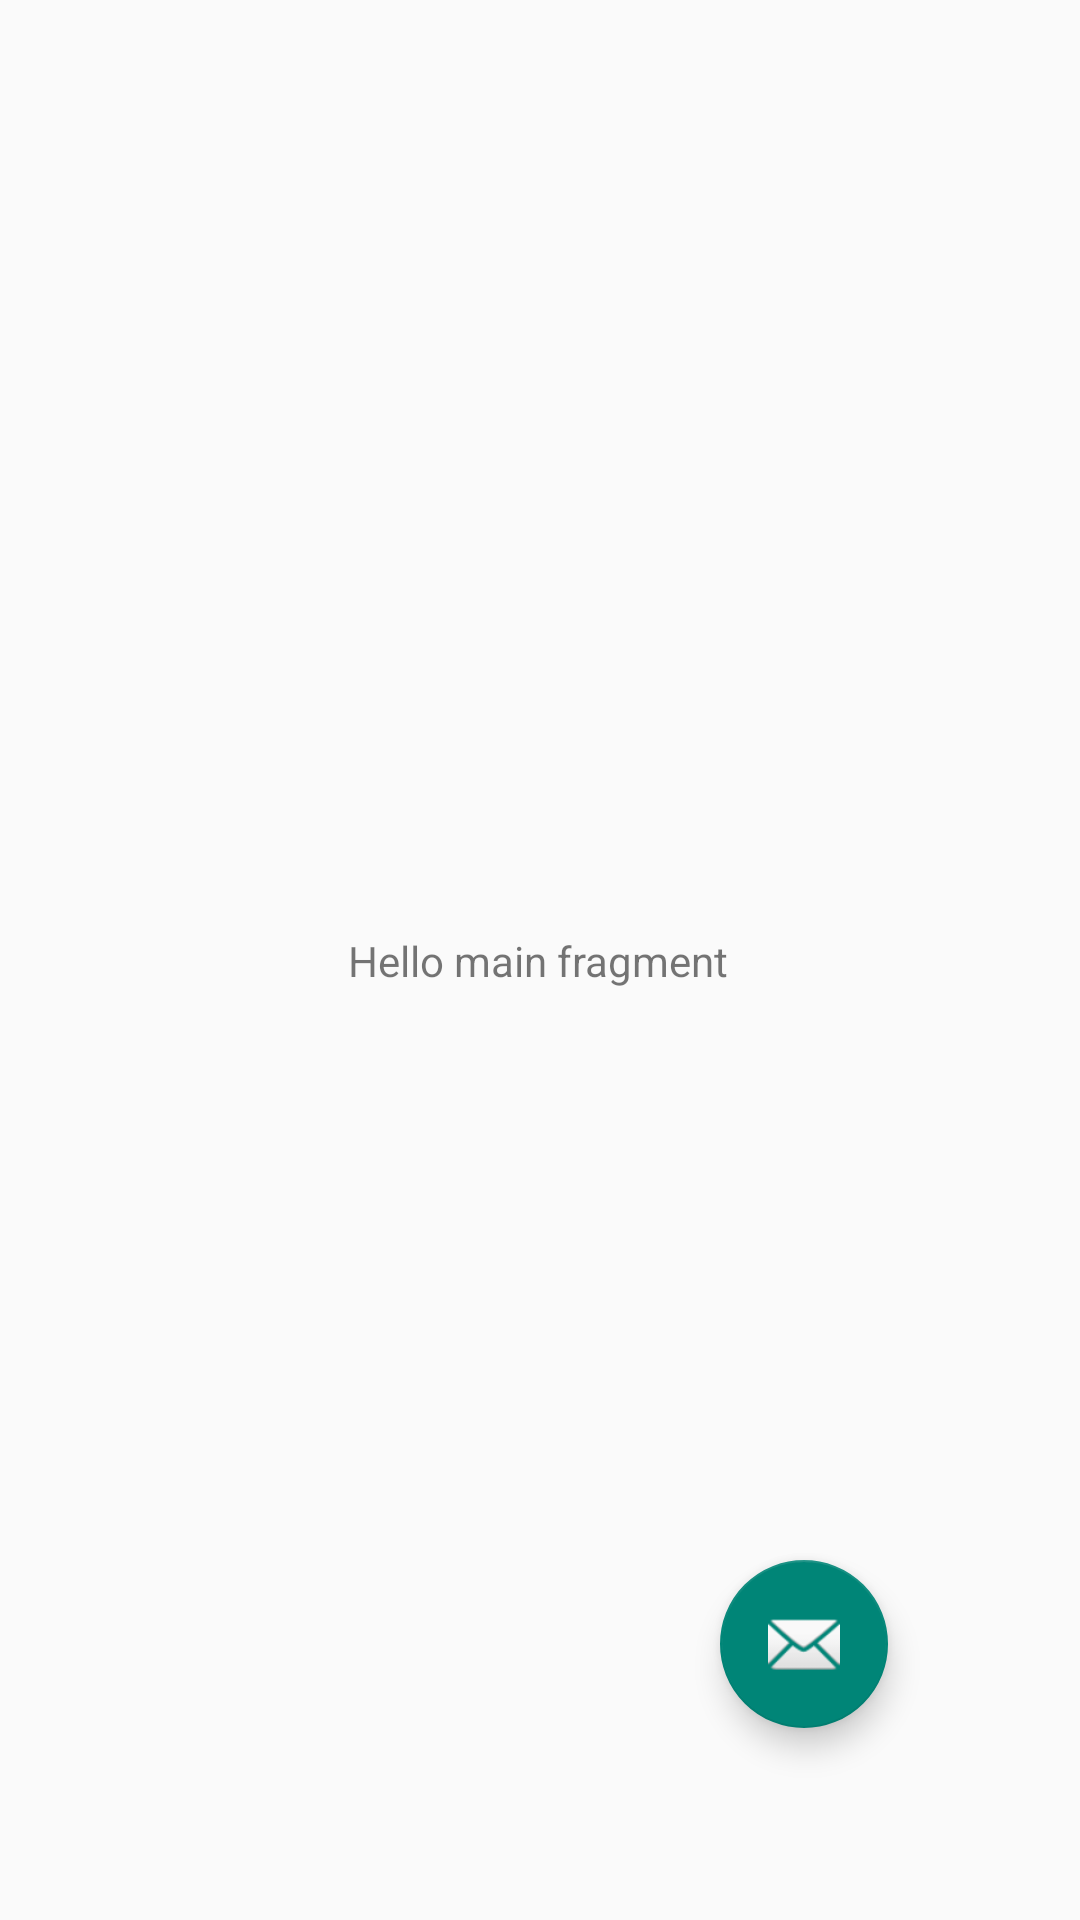

Point at icon controls on the screen. Image size 1080px×1920px, points as [x,y].
email: [804,1644]
